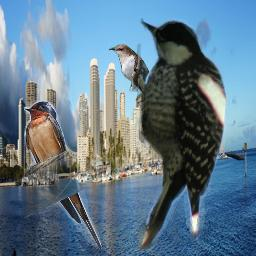Cuckoo: (108, 44, 155, 131)
Swallow: (24, 100, 102, 249)
Woodpecker: (137, 18, 228, 249)
